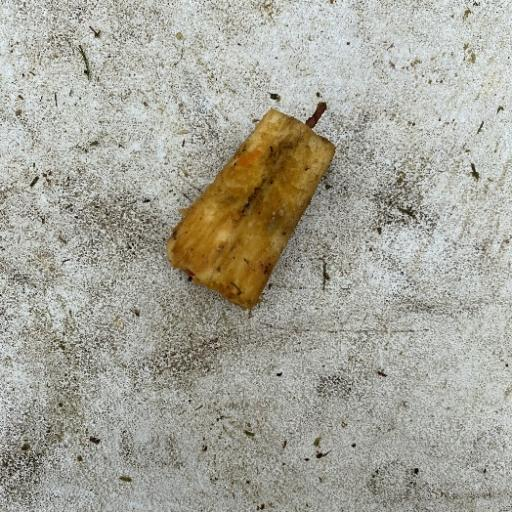Waste: (164, 100, 336, 310)
